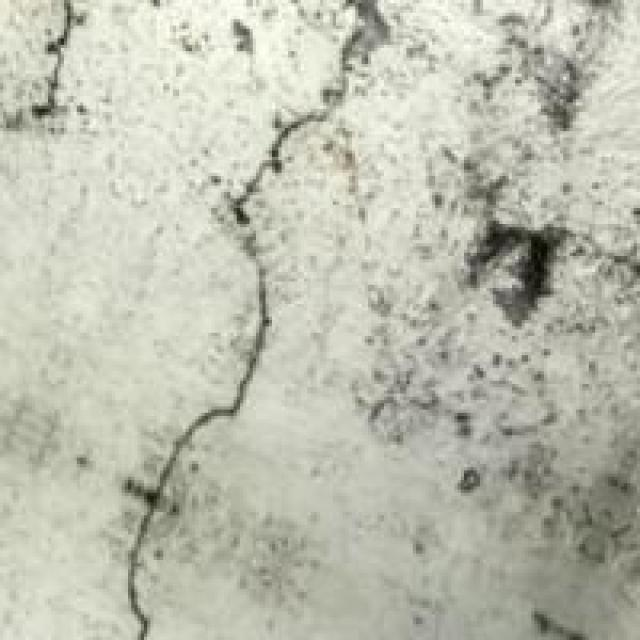Crack: (125, 6, 381, 637)
